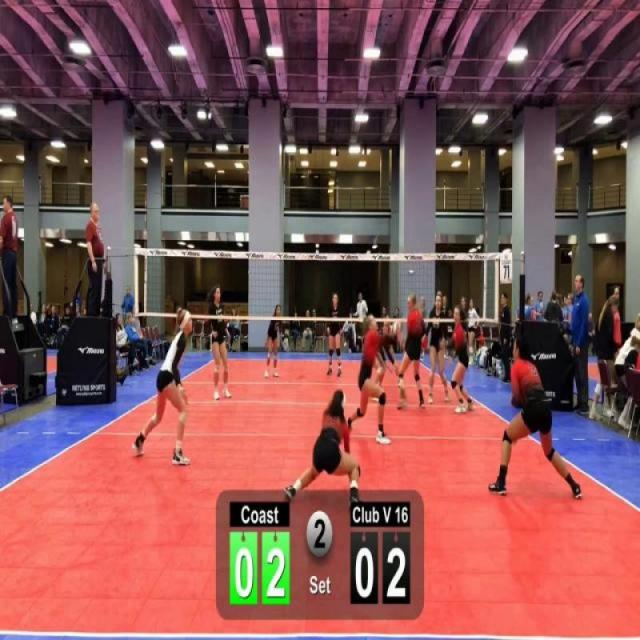volleyball: (392, 319, 404, 336)
